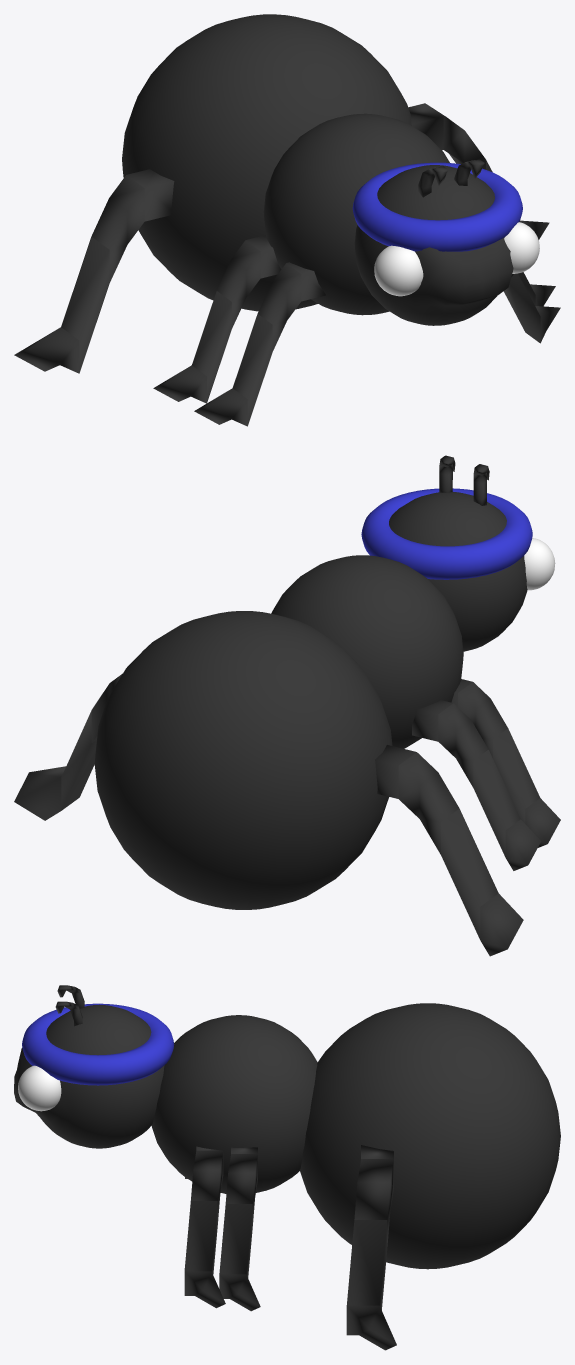
File: base_fourmi_noire_combattante.dae
3 views of the same model, one above another, from view 1: azimuth 30°, elevation 25°; view 2: azimuth 150°, elevation 25°; view 3: azimuth 270°, elevation 25° (orthographic). The views are drawn at different scales.
Parts seen in each view (by area): view 1: Cube_003, Torus_001; view 2: Cube_003, Torus_001; view 3: Cube_003, Torus_001.
Part boxes in pixels (x1,y1,x2,y2): Cube_003: (14, 14, 560, 426); Torus_001: (352, 162, 522, 251); Cube_003: (14, 455, 560, 956); Torus_001: (361, 488, 532, 579); Cube_003: (14, 985, 560, 1350); Torus_001: (22, 1003, 174, 1085).
Size of the model in its own units: 2.99 by 3.13 by 1.67.
